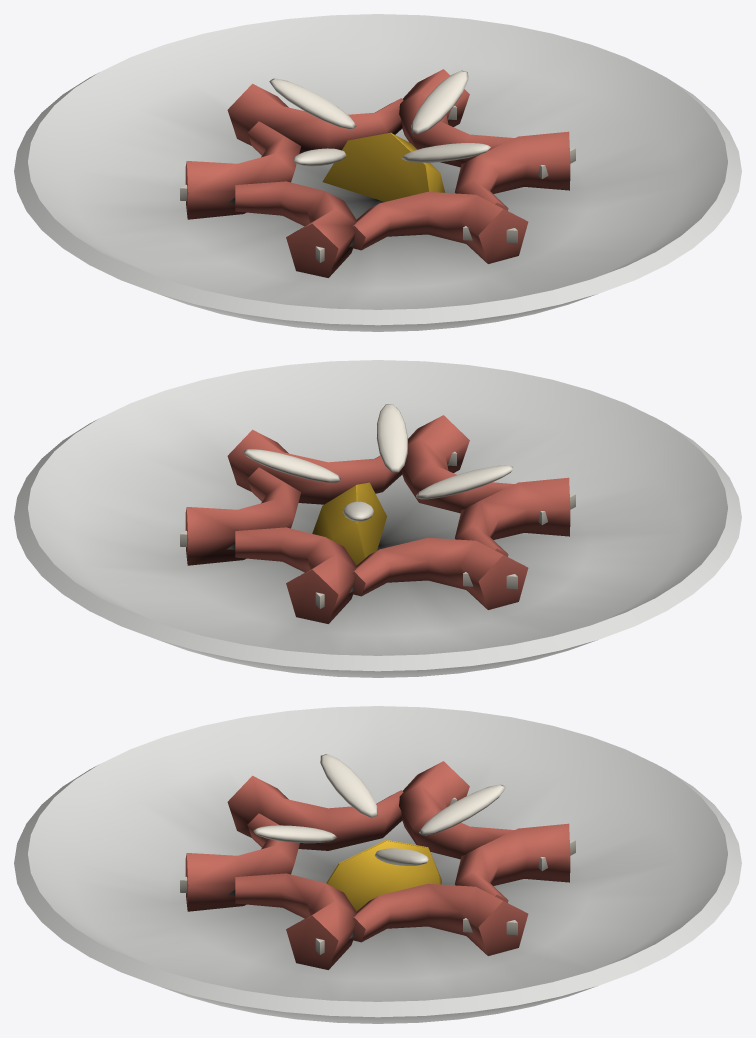
Rendered from meal_shell.glb.
3 views of the same model, one above another, from view 1: azimuth 30°, elevation 25°; view 2: azimuth 150°, elevation 25°; view 3: azimuth 270°, elevation 25° (orthographic).
Visible parts, largest first — view 1: PART; view 2: PART; view 3: PART.
Part boxes in pixels (left/top/right/bottom): PART: left=14, top=14, right=741, bottom=331; PART: left=14, top=360, right=741, bottom=677; PART: left=14, top=706, right=741, bottom=1023.
Bounding box in the file's own units: 0.21 × 0.0362 × 0.21.
